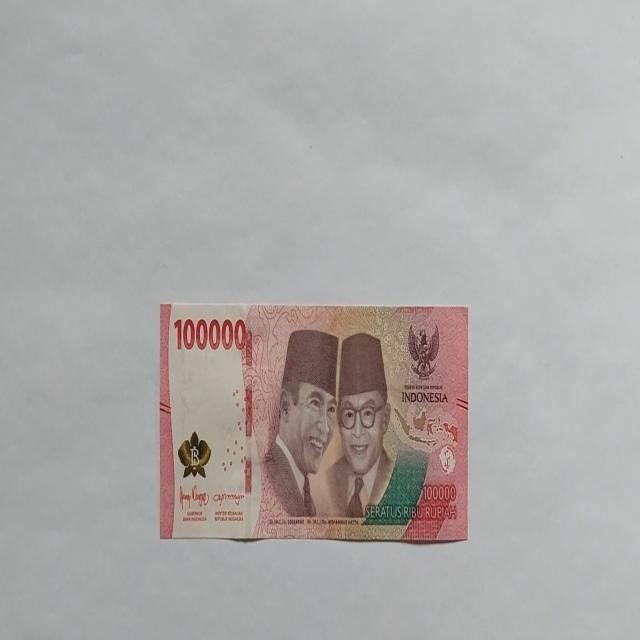seratus ribu rupiah: (158, 301, 470, 543), (253, 327, 339, 536)
